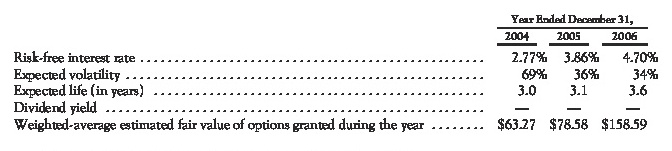table: (0, 0, 672, 151)
